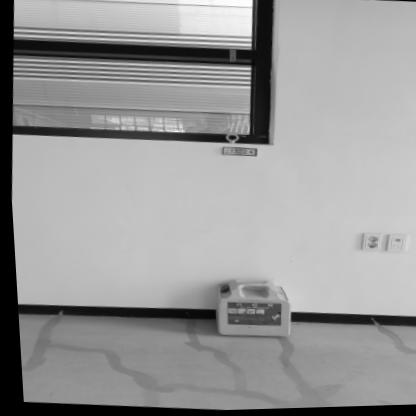DDL: (209, 278, 290, 340)
